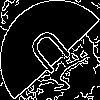U: (25, 25, 80, 84)
